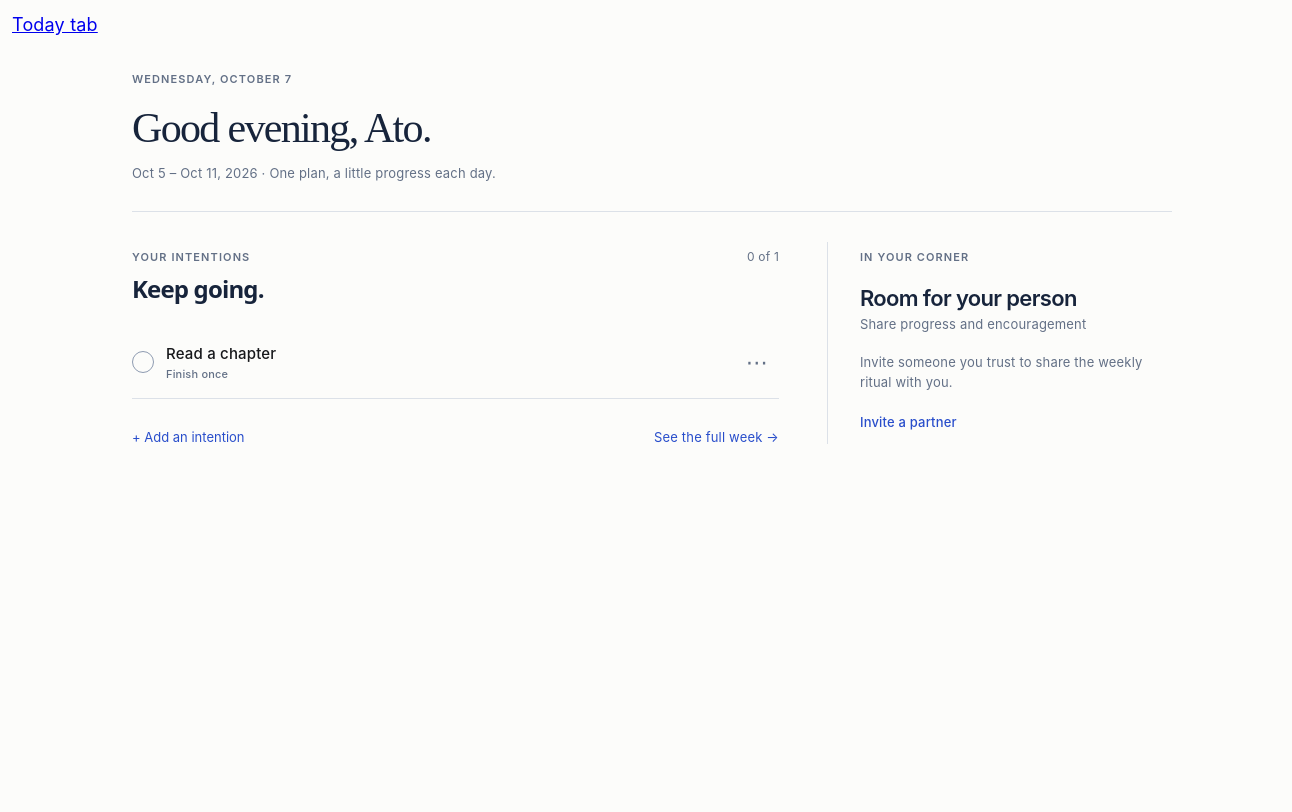
Scenario: the real Today-to-week link navigates in place and reuses the loaded plan
Expected: the heading "Keep going." is shown, [132,275,264,303]
Click the link "See the full week →" at point(716, 437), box [654,429,779,445]
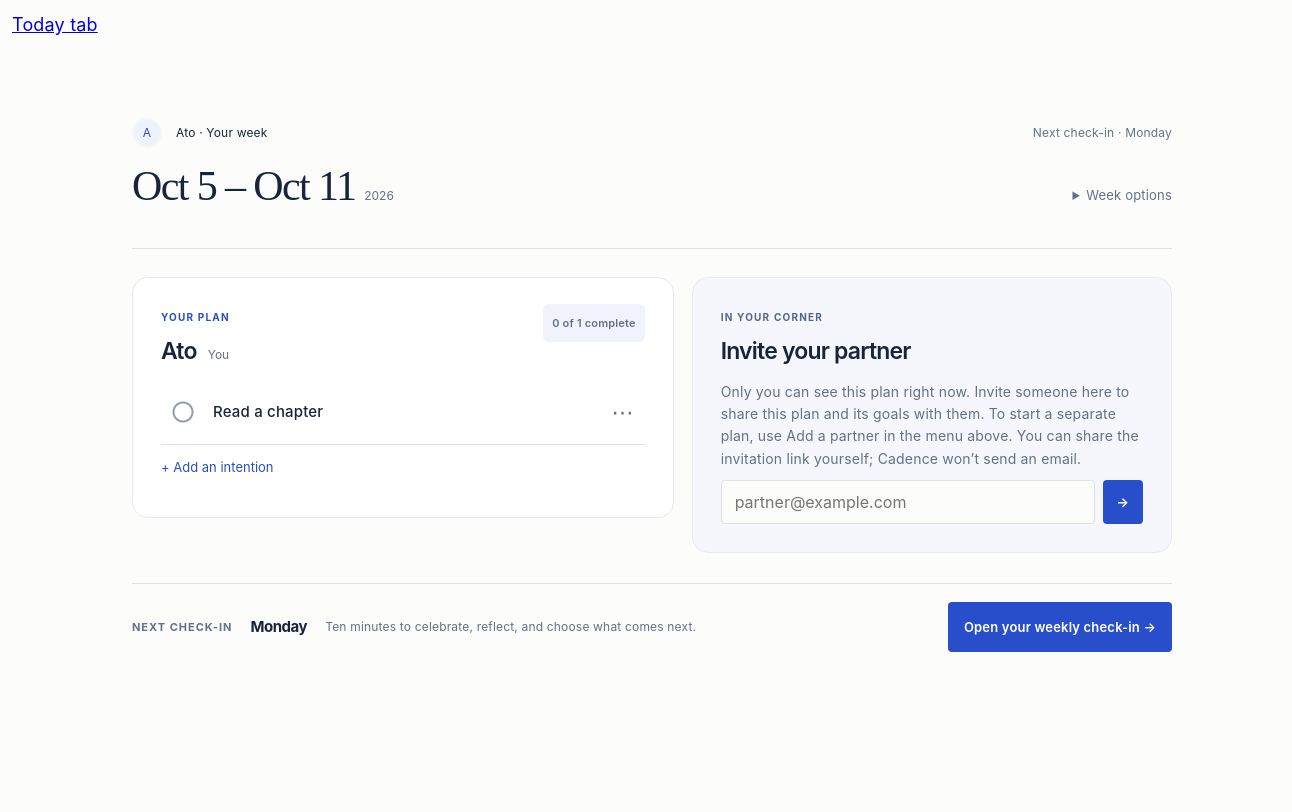
Result: the button named "Mark Read a chapter complete" is shown at [161,390,205,434]
Click the link "Today tab" at point(55, 24), box [12,14,98,35]
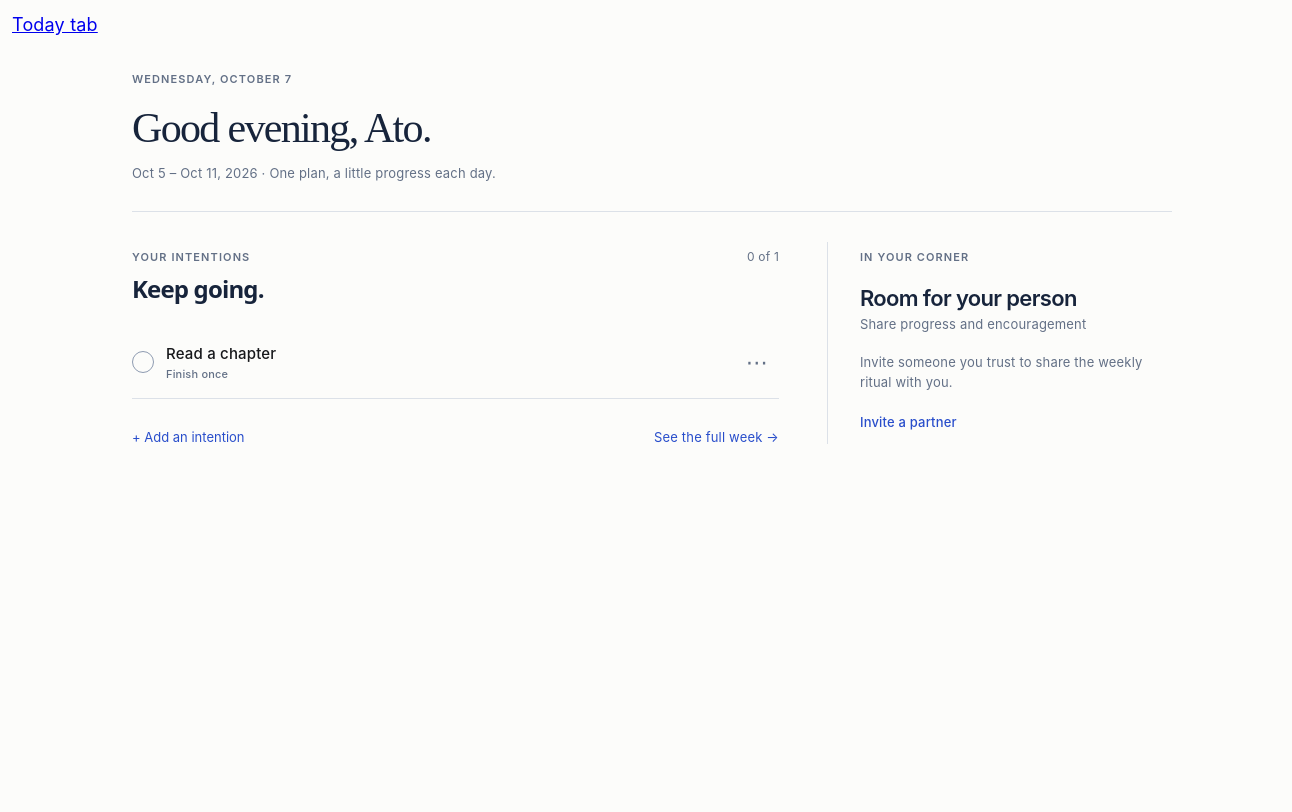
Result: the heading "Keep going." is shown at [132,275,264,303]
